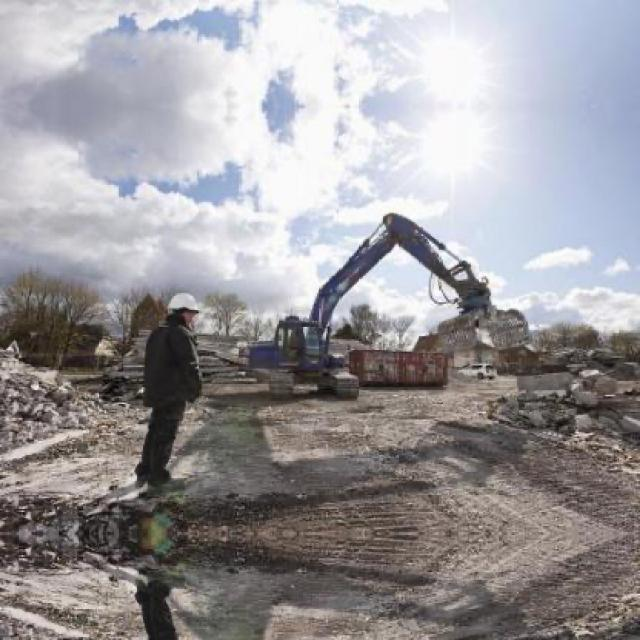con casco: (150, 284, 209, 334)
